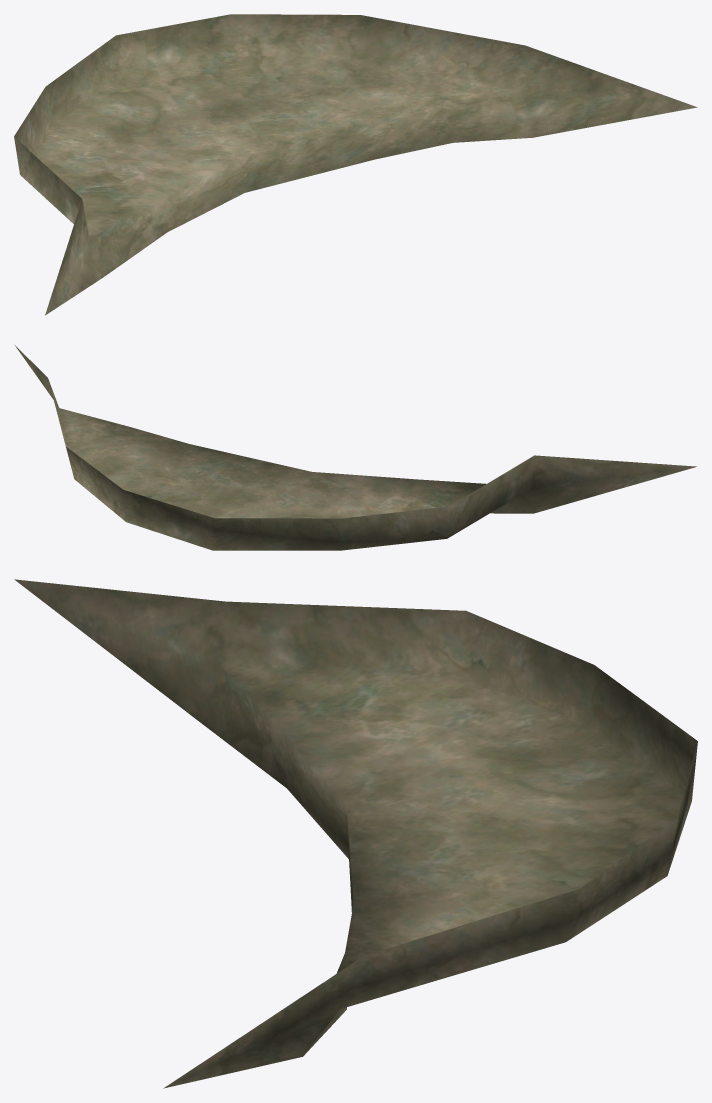
File: EKH_CAVERNS_PS_CA_PLATFORM487553.fbx
3 renders of one model, top to bottom at view 1: azimuth 30°, elevation 25°; view 2: azimuth 150°, elevation 25°; view 3: azimuth 270°, elevation 25°, orthographic. The views are drawn at different scales.
Parts seen in each view (by area): view 1: EKH_CAVERNS_PS_CA_PLATFORM487553; view 2: EKH_CAVERNS_PS_CA_PLATFORM487553; view 3: EKH_CAVERNS_PS_CA_PLATFORM487553.
Part boxes in pixels (x1,y1,x2,y2): EKH_CAVERNS_PS_CA_PLATFORM487553: (14, 14, 697, 315); EKH_CAVERNS_PS_CA_PLATFORM487553: (15, 345, 696, 550); EKH_CAVERNS_PS_CA_PLATFORM487553: (14, 579, 697, 1088).
Size of the model in its own units: 61659 by 6218 by 34998.
Materials: 1 (1 with a texture image).
